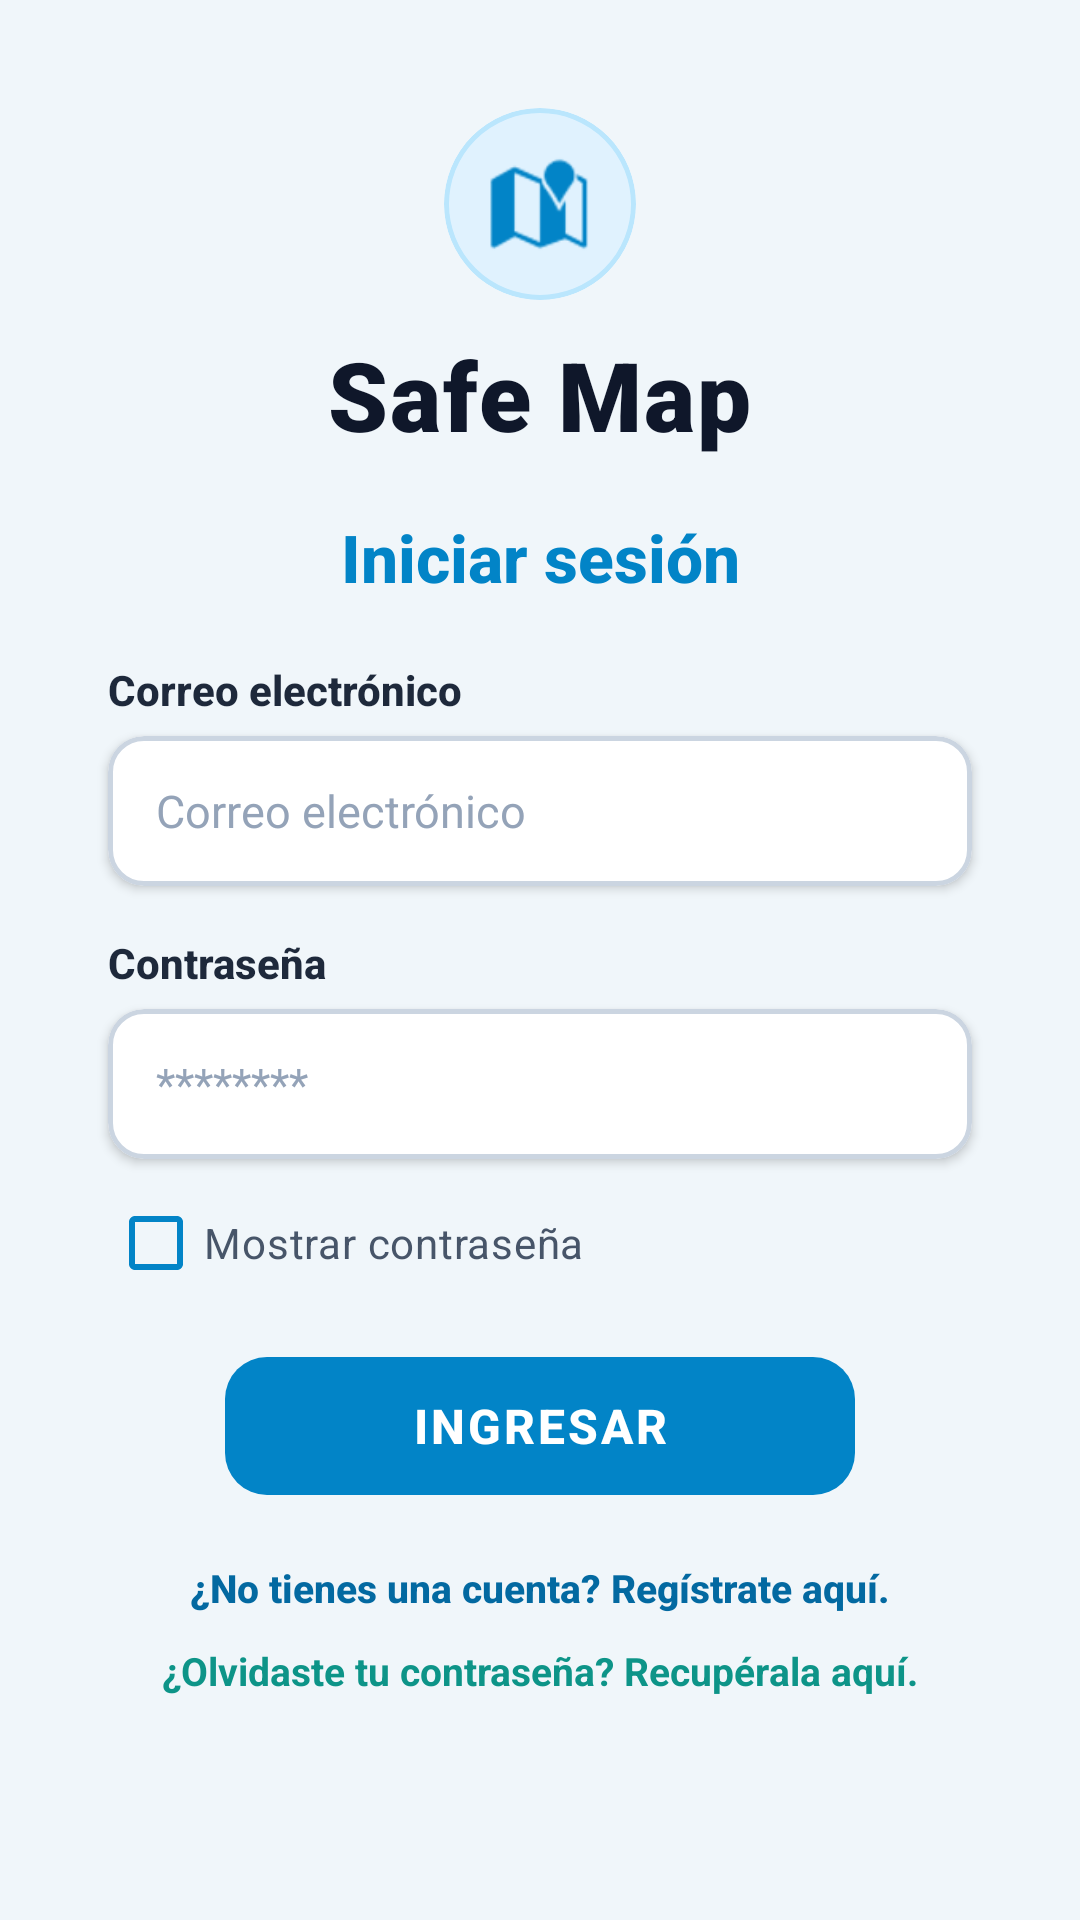

Where to tap for icons on this 1080w x 1920h app screen, as (x,y):
Icono de mapa: (539,204)
